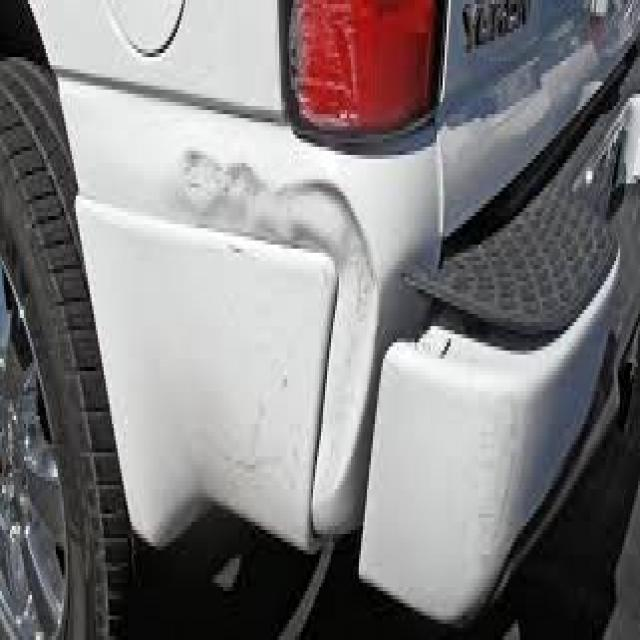minor: (171, 113, 436, 514)
